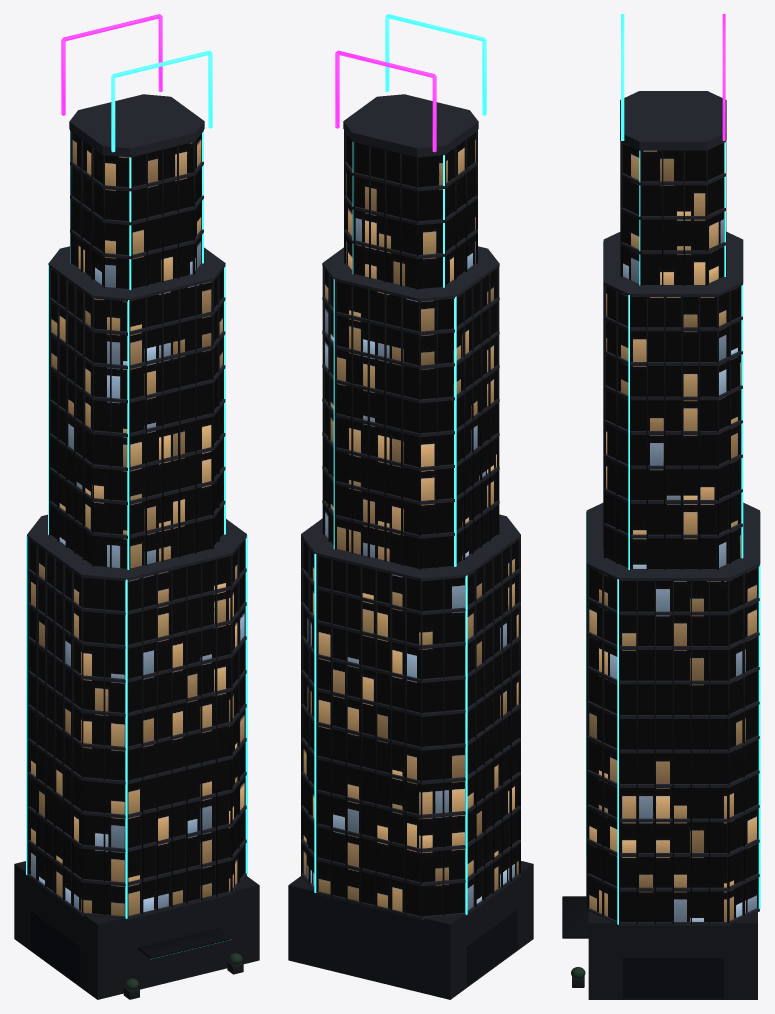
The model's file is neon-tower-a.glb.
3 renders of one model, left to right at view 1: azimuth 30°, elevation 25°; view 2: azimuth 150°, elevation 25°; view 3: azimuth 270°, elevation 25°, orthographic.
Visible parts, largest first — view 1: Building; view 2: Building; view 3: Building.
Boxes of the visible parts, <box> form: Building: <box>14,14,259,999</box>; Building: <box>288,14,533,999</box>; Building: <box>562,14,760,999</box>.
Size of the model in its own units: 18.54 by 96.15 by 18.75.
9 materials, 2 textured.
